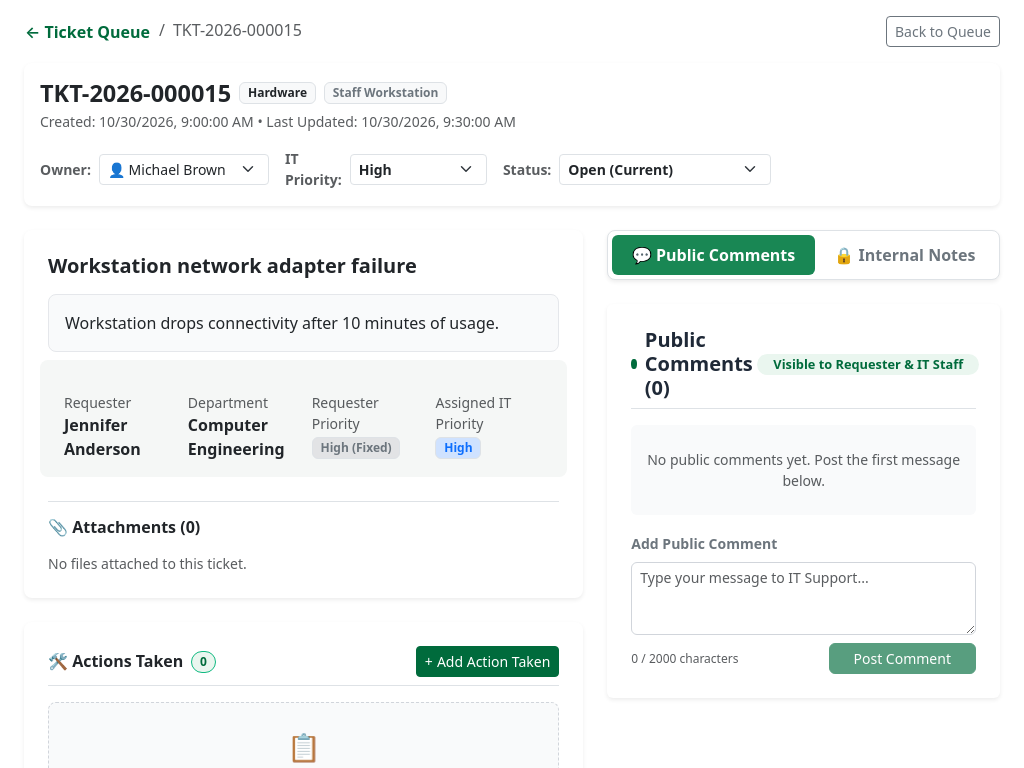
Test: Lab 4 Issue 4: Ticket Workflow, Status Transitions, and Resolution Gate UI (UI-03, AC-05, AC-06, FR-07, BR-06, BR-07) › Status Mutation & Concurrency Handling (BR-08, AC-07) › successfully transitions status and passes expectedUpdatedAt
The width and height of the screenshot is (1024, 768).
Expected: the list item "TKT-2026-000015" is shown, [151,18,302,45]
Select "→ InProgress" in the dropdown with id "ticket-status-select": (665, 169) [559,154,771,185]
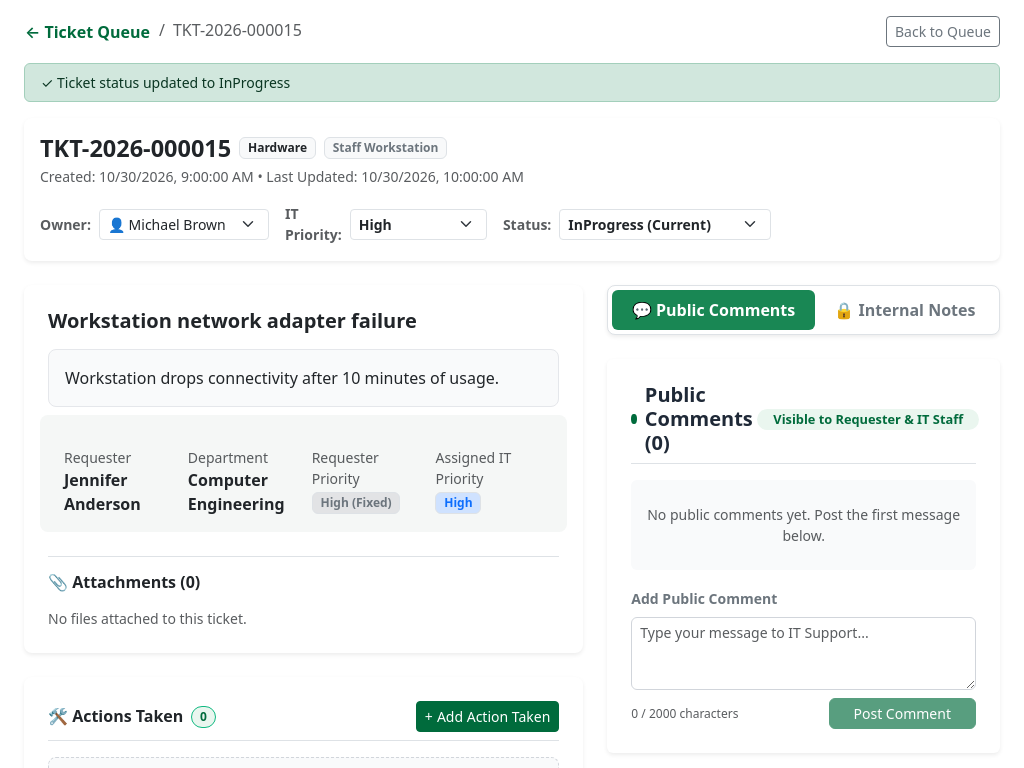
Now the text "✓ Ticket status updated to InProgress" is shown, box [24,63,1000,102]
